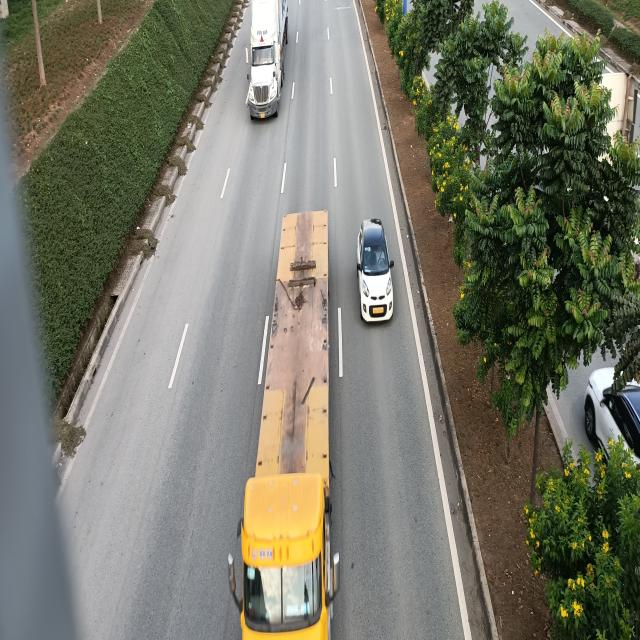car: (355, 220, 394, 326)
container: (248, 212, 338, 636), (246, 1, 291, 120)
